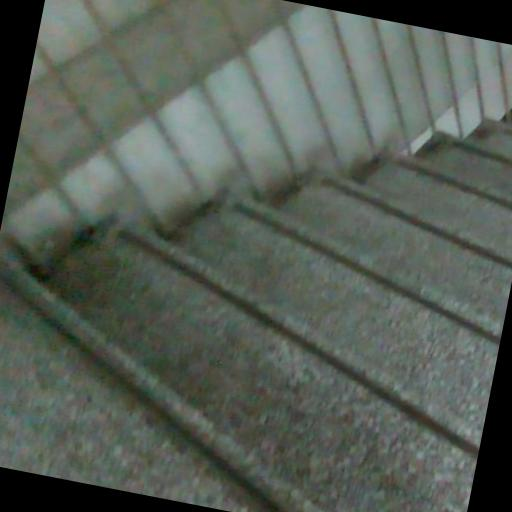stairs: (50, 125, 511, 511)
